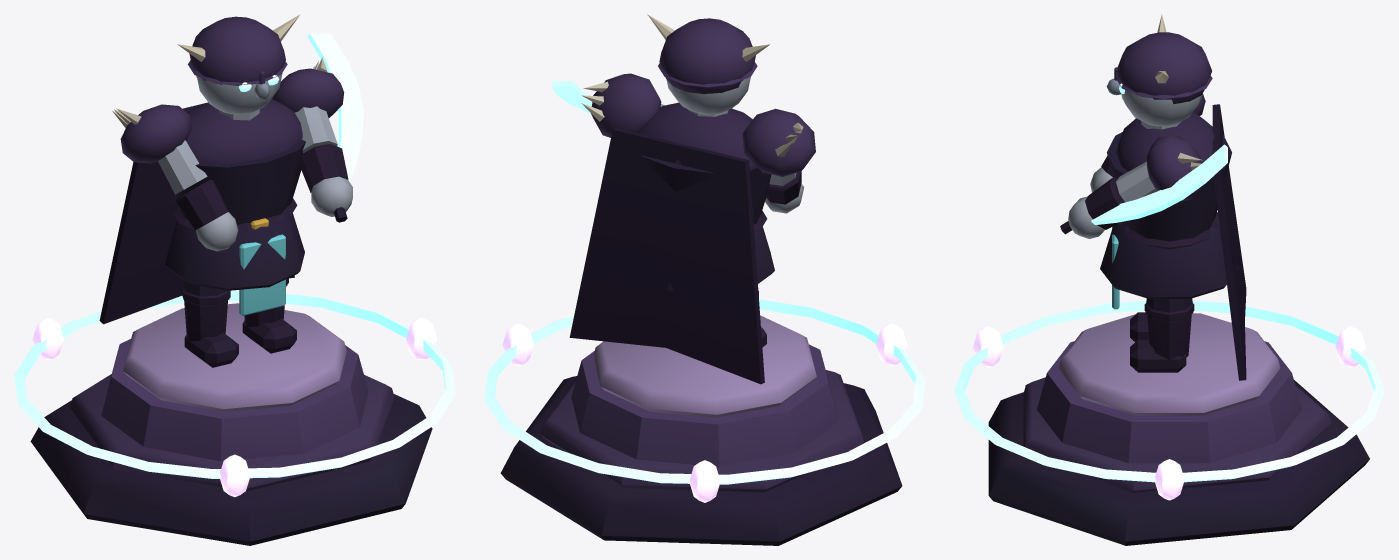
The model's file is ombres_7.glb.
3 renders of one model, left to right at view 1: azimuth 30°, elevation 25°; view 2: azimuth 150°, elevation 25°; view 3: azimuth 270°, elevation 25°, orthographic. The views are drawn at different scales.
Parts seen in each view (by area): view 1: ombres_7_peint, Buste_peint, Rune, Crane_peint, BrasG_peint, BrasD_peint, JambeG_peint, LameCourbe, AnneauFlottant_lueur, JambeD_peint; view 2: ombres_7_peint, Buste_peint, Rune, Crane_peint, BrasG_peint, BrasD_peint, AnneauFlottant_lueur, LameCourbe; view 3: ombres_7_peint, Buste_peint, Rune, Crane_peint, BrasD_peint, JambeD_peint, LameCourbe, AnneauFlottant_lueur, BrasG_peint.
Boxes of the visible parts, box(x1,y1,x2,y2) form: ombres_7_peint: box(30, 303, 432, 545); Buste_peint: box(99, 99, 305, 324); Rune: box(14, 291, 455, 478); Crane_peint: box(177, 14, 300, 114); BrasG_peint: box(112, 104, 238, 251); BrasD_peint: box(272, 58, 352, 216); JambeG_peint: box(181, 279, 238, 367); LameCourbe: box(307, 33, 363, 182); AnneauFlottant_lueur: box(32, 318, 437, 497); JambeD_peint: box(242, 278, 296, 353); ombres_7_peint: box(500, 315, 902, 545); Buste_peint: box(569, 102, 774, 384); Rune: box(484, 299, 925, 484); Crane_peint: box(647, 14, 769, 114); BrasG_peint: box(742, 108, 815, 213); BrasD_peint: box(581, 73, 664, 137); AnneauFlottant_lueur: box(502, 323, 907, 502); LameCourbe: box(551, 81, 592, 113); ombres_7_peint: box(988, 313, 1369, 545); Buste_peint: box(1100, 104, 1246, 380); Rune: box(954, 301, 1384, 482); Crane_peint: box(1106, 14, 1212, 126); BrasD_peint: box(1068, 135, 1202, 238); JambeD_peint: box(1130, 298, 1194, 372); LameCourbe: box(1091, 144, 1227, 224); AnneauFlottant_lueur: box(973, 326, 1365, 500); BrasG_peint: box(1090, 93, 1205, 192).
Bounding box in the file's own units: 0.858 × 0.9244 × 0.844.
